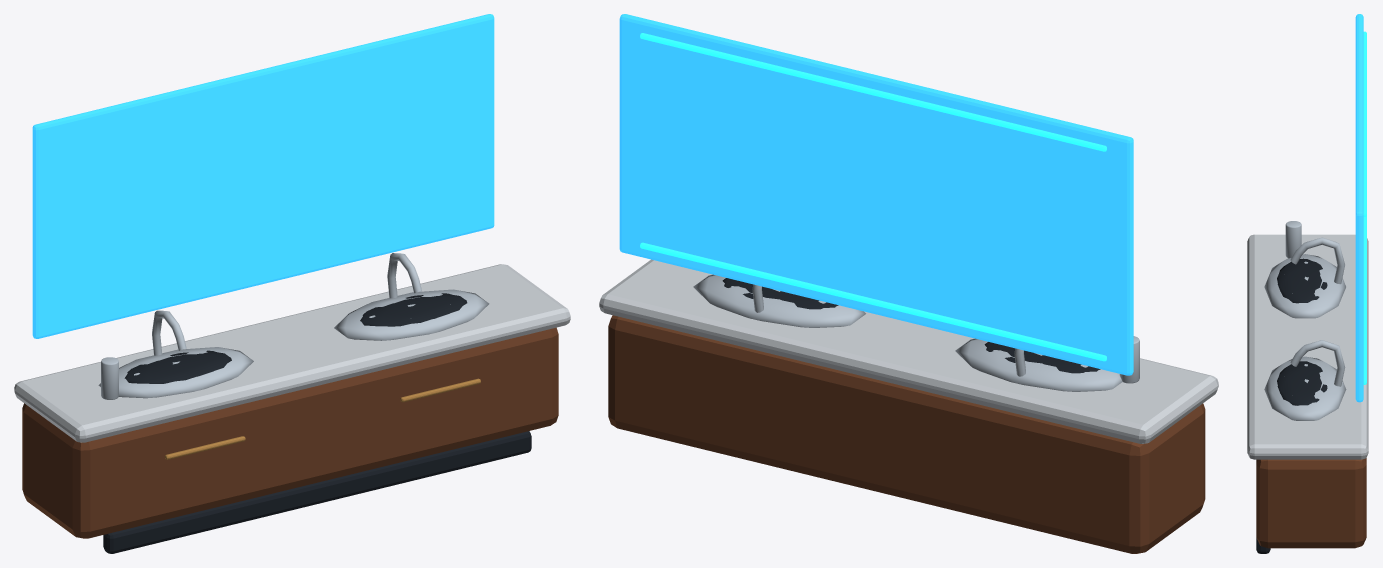
The model's file is bathroom-vanity.glb.
3 renders of one model, left to right at view 1: azimuth 30°, elevation 25°; view 2: azimuth 150°, elevation 25°; view 3: azimuth 270°, elevation 25°, orthographic. The views are drawn at different scales.
Visible parts, largest first — view 1: bathroomVanity · Active display, bathroomVanity · Walnut, bathroomVanity · Quartz stone, bathroomVanity · Soft black, bathroomVanity · Brushed aluminum, bathroomVanity · Satin brass; view 2: bathroomVanity · Active display, bathroomVanity · Walnut, bathroomVanity · Quartz stone, bathroomVanity · Brushed aluminum, bathroomVanity · Status cyan, bathroomVanity · Soft black; view 3: bathroomVanity · Quartz stone, bathroomVanity · Walnut, bathroomVanity · Brushed aluminum, bathroomVanity · Active display, bathroomVanity · Soft black, bathroomVanity · Status cyan.
Part boxes in pixels (<box>): bathroomVanity · Active display: <box>32,14,494,338</box>; bathroomVanity · Walnut: <box>22,327,558,538</box>; bathroomVanity · Quartz stone: <box>14,264,570,442</box>; bathroomVanity · Soft black: <box>103,293,531,553</box>; bathroomVanity · Brushed aluminum: <box>98,253,489,399</box>; bathroomVanity · Satin brass: <box>165,378,480,459</box>; bathroomVanity · Active display: <box>619,14,1133,375</box>; bathroomVanity · Walnut: <box>608,315,1205,553</box>; bathroomVanity · Quartz stone: <box>599,259,1218,443</box>; bathroomVanity · Brushed aluminum: <box>693,274,1139,391</box>; bathroomVanity · Status cyan: <box>640,33,1106,361</box>; bathroomVanity · Soft black: <box>722,278,1100,373</box>; bathroomVanity · Quartz stone: <box>1247,234,1368,459</box>; bathroomVanity · Walnut: <box>1256,458,1366,548</box>; bathroomVanity · Brushed aluminum: <box>1264,221,1346,420</box>; bathroomVanity · Active display: <box>1355,14,1363,402</box>; bathroomVanity · Soft black: <box>1256,258,1327,553</box>; bathroomVanity · Status cyan: <box>1363,31,1366,384</box>.
Bounding box in the file's own units: 2.86 × 2.17 × 0.68.
